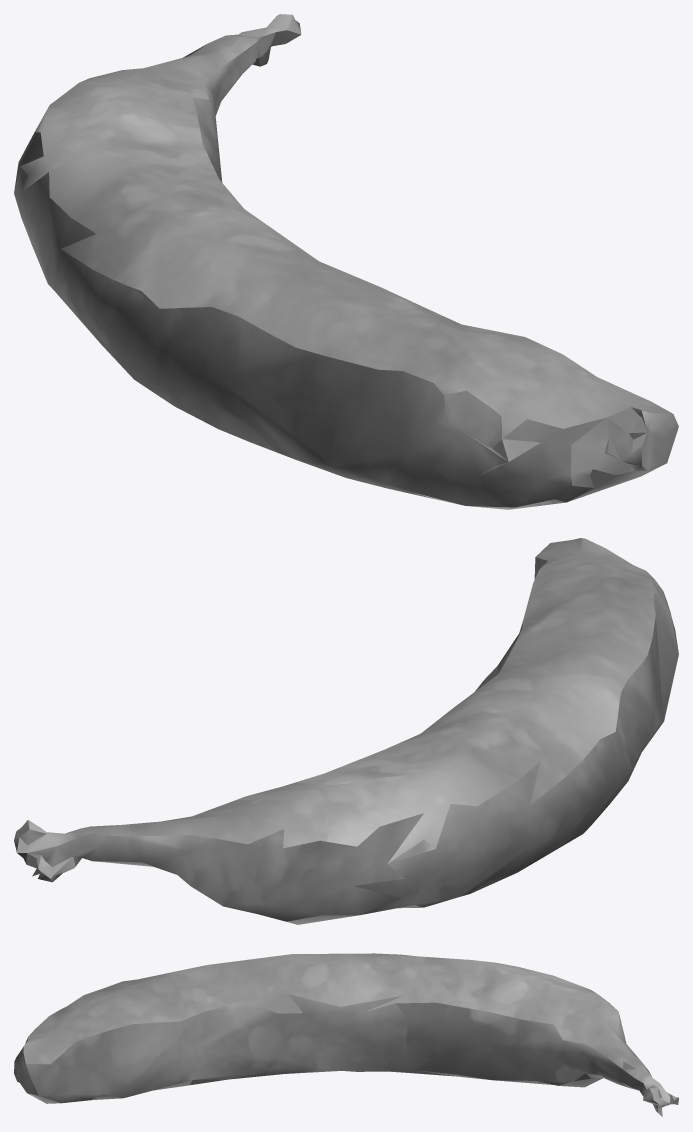
File: SM_Banana_01e.fbx
3 views of the same model, one above another, from view 1: azimuth 30°, elevation 25°; view 2: azimuth 150°, elevation 25°; view 3: azimuth 270°, elevation 25° (orthographic). The views are drawn at different scales.
Parts seen in each view (by area): view 1: SM_Banana_01e_LOD0; view 2: SM_Banana_01e_LOD0; view 3: SM_Banana_01e_LOD0.
Boxes of the visible parts, <box> form: SM_Banana_01e_LOD0: <box>14,14,678,509</box>; SM_Banana_01e_LOD0: <box>14,538,678,924</box>; SM_Banana_01e_LOD0: <box>14,953,678,1116</box>.
Size of the model in its own units: 9.35 by 19.44 by 3.32.
